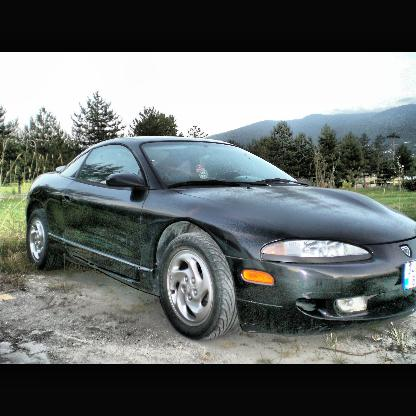Eagle Talon Hatchback 1998: (27, 136, 416, 344)
